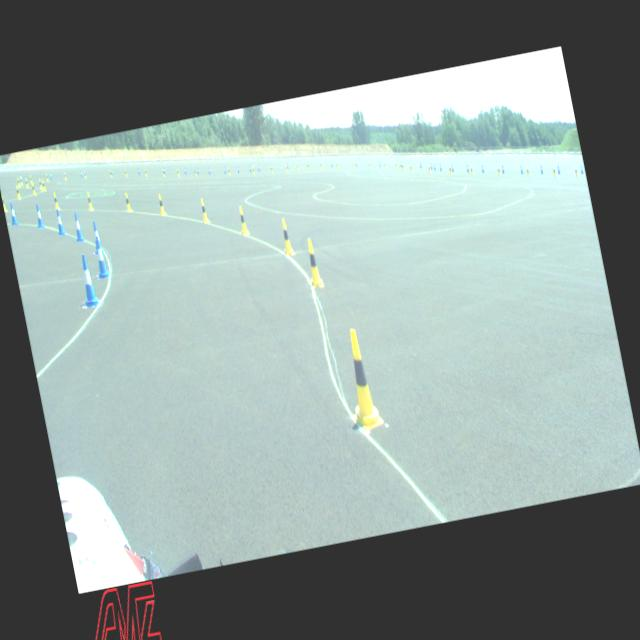blue_cone: (75, 254, 100, 308), (91, 235, 110, 279), (90, 221, 104, 254), (72, 212, 84, 242), (54, 208, 66, 236), (34, 204, 45, 228), (8, 202, 18, 225), (580, 164, 584, 174), (540, 164, 544, 174), (556, 164, 560, 173), (520, 165, 524, 174), (500, 164, 504, 173), (480, 164, 484, 173), (450, 163, 454, 172), (248, 164, 252, 173), (137, 167, 141, 176), (184, 166, 188, 175), (50, 172, 54, 180), (208, 167, 211, 176), (21, 174, 24, 182), (111, 168, 114, 176), (439, 163, 442, 171), (430, 162, 433, 170), (466, 165, 469, 172), (197, 167, 200, 174), (434, 163, 436, 171), (258, 164, 260, 172)
yellow_cone: (337, 328, 384, 432), (303, 238, 324, 288), (279, 218, 294, 255), (237, 206, 249, 236), (199, 198, 209, 222), (157, 193, 166, 216), (85, 192, 94, 212), (124, 192, 132, 212), (52, 192, 60, 210), (2, 193, 8, 212), (15, 186, 21, 198), (31, 182, 36, 195), (42, 180, 47, 191), (29, 174, 34, 184), (469, 165, 474, 175), (17, 176, 21, 188), (20, 176, 24, 187), (25, 178, 29, 188), (552, 166, 556, 176), (39, 179, 43, 189), (574, 167, 578, 177), (498, 166, 502, 176), (270, 164, 274, 174), (526, 167, 530, 176), (448, 165, 452, 174), (428, 164, 432, 173), (409, 164, 413, 173), (144, 168, 148, 177), (320, 161, 324, 170), (284, 163, 288, 172), (251, 166, 255, 175), (46, 174, 50, 182), (64, 172, 68, 180), (162, 168, 166, 176), (368, 160, 372, 168), (306, 162, 310, 170), (296, 162, 299, 172), (125, 168, 128, 177), (177, 168, 180, 177), (84, 170, 87, 178), (383, 162, 386, 168), (352, 162, 355, 168), (336, 161, 338, 169)
